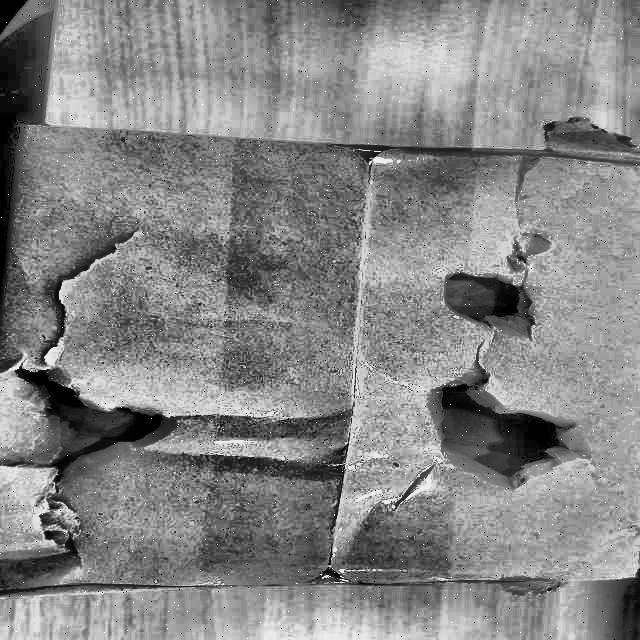box: (0, 112, 640, 614)
hole: (416, 377, 586, 497), (24, 374, 198, 468), (433, 261, 555, 330)
